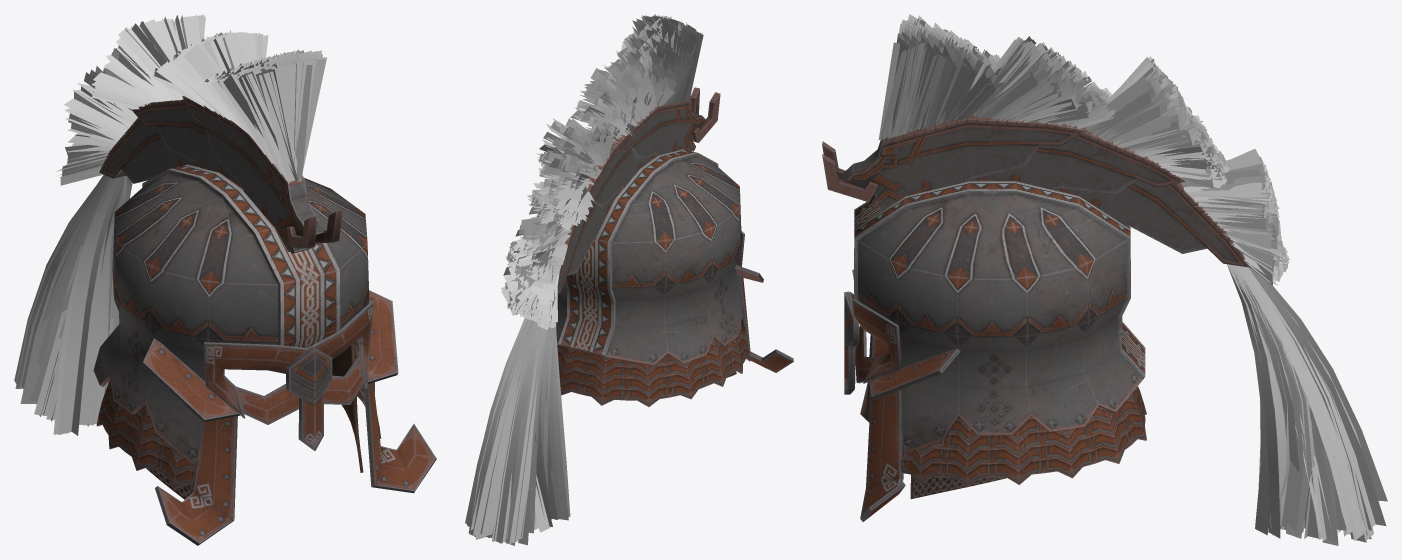
File: sk_dwarf_dain_helmet_elite_b.fbx
The picture shows the model from 3 angles, left to right: view 1: azimuth 30°, elevation 25°; view 2: azimuth 150°, elevation 25°; view 3: azimuth 270°, elevation 25°; orthographic projection. The views are drawn at different scales.
Parts seen in each view (by area): view 1: sk_dwarf_dain_helmet_elite_b.0, sk_dwarf_dain_helmet_elite_b.1, sk_dwarf_dain_helmet_elite_b.plume; view 2: sk_dwarf_dain_helmet_elite_b.0, sk_dwarf_dain_helmet_elite_b.1, sk_dwarf_dain_helmet_elite_b.plume; view 3: sk_dwarf_dain_helmet_elite_b.0, sk_dwarf_dain_helmet_elite_b.1, sk_dwarf_dain_helmet_elite_b.plume.
Boxes of the visible parts, bbox=[...] form: sk_dwarf_dain_helmet_elite_b.0: bbox=[93, 96, 436, 545]; sk_dwarf_dain_helmet_elite_b.1: bbox=[56, 14, 326, 185]; sk_dwarf_dain_helmet_elite_b.plume: bbox=[14, 175, 132, 435]; sk_dwarf_dain_helmet_elite_b.0: bbox=[556, 87, 793, 406]; sk_dwarf_dain_helmet_elite_b.1: bbox=[501, 14, 703, 333]; sk_dwarf_dain_helmet_elite_b.plume: bbox=[465, 318, 570, 545]; sk_dwarf_dain_helmet_elite_b.0: bbox=[822, 115, 1251, 521]; sk_dwarf_dain_helmet_elite_b.1: bbox=[878, 14, 1289, 285]; sk_dwarf_dain_helmet_elite_b.plume: bbox=[1227, 264, 1387, 545].
Bounding box in the file's own units: 0.3165 × 0.5749 × 0.5644.
